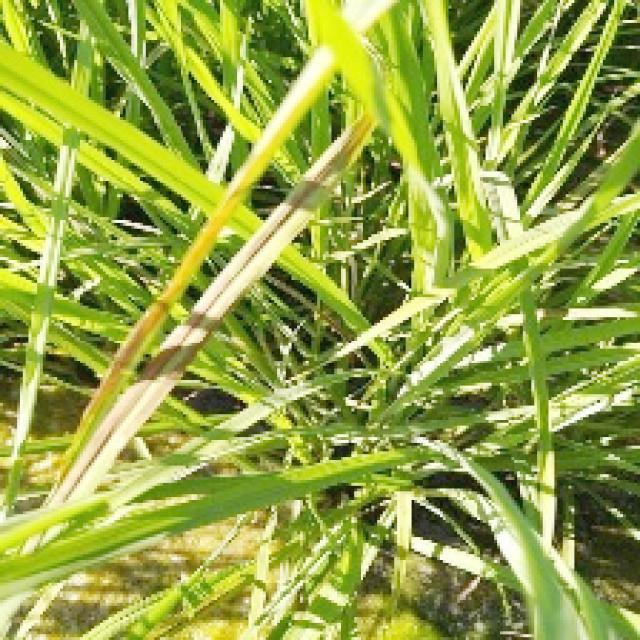health: (0, 0, 631, 357)
